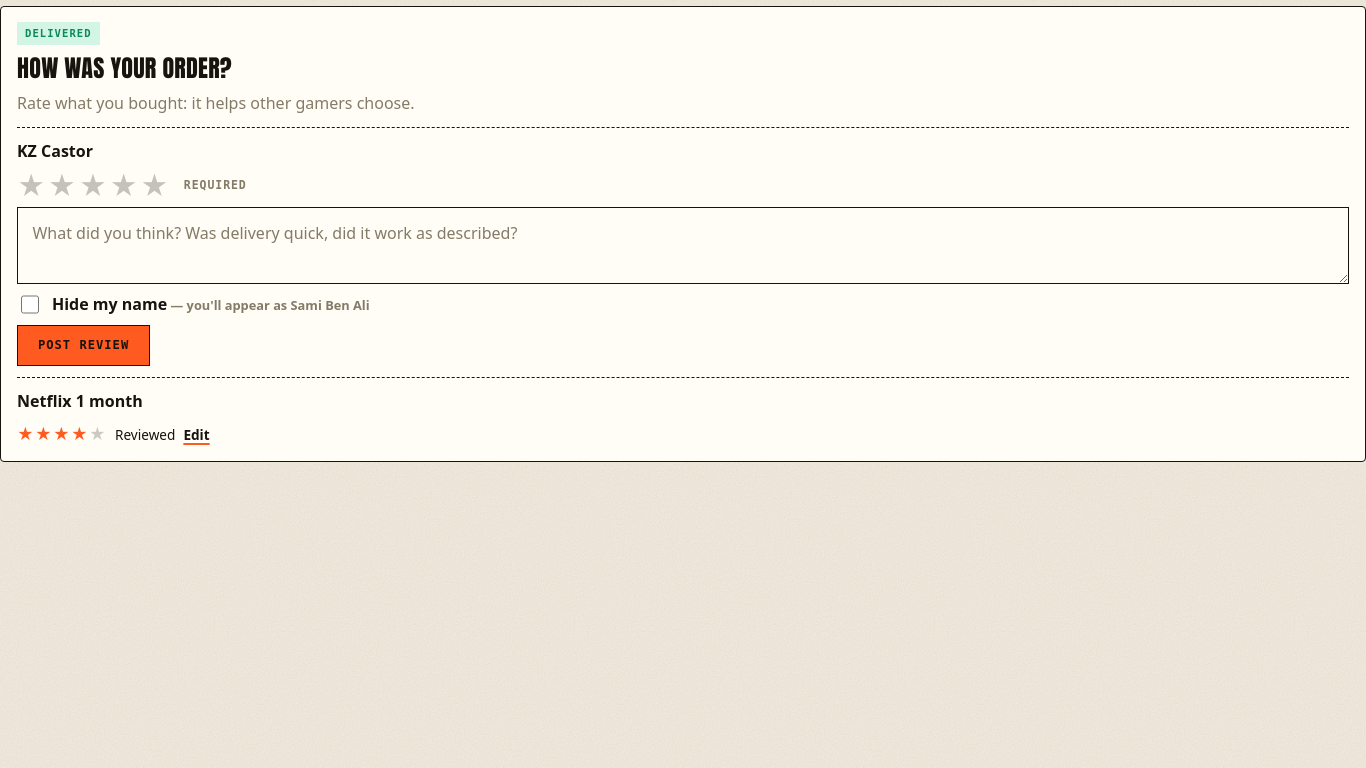
Scenario: ChatReviewCard › shows an existing review as done, with an Edit button that opens the form filled in
Expected: the text "Reviewed" is shown, [115, 425, 175, 444]
Click the button "Edit" at (197, 435), box [183, 424, 210, 445]
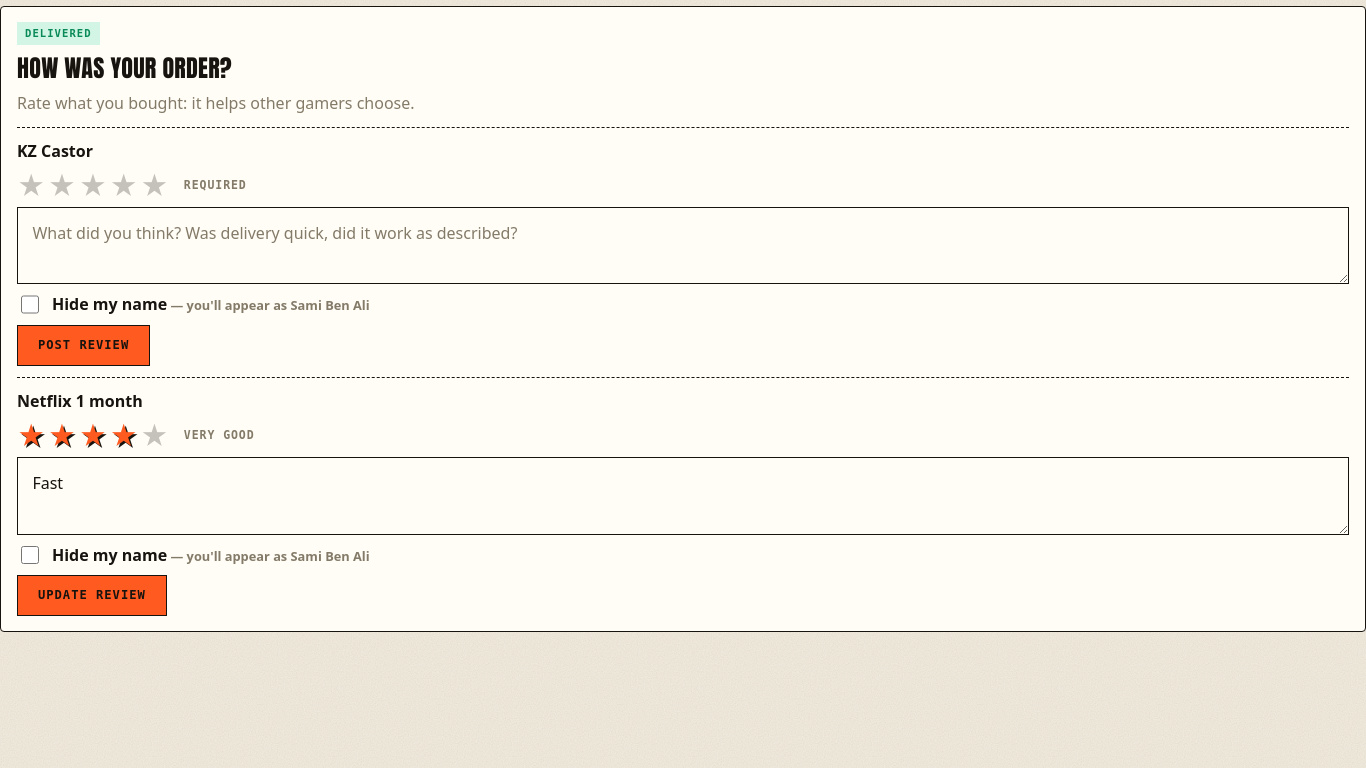
Result: the text box showing "Fast" is shown at [17, 457, 1349, 535]
Result: the button "Update review" is shown at [17, 575, 167, 616]
